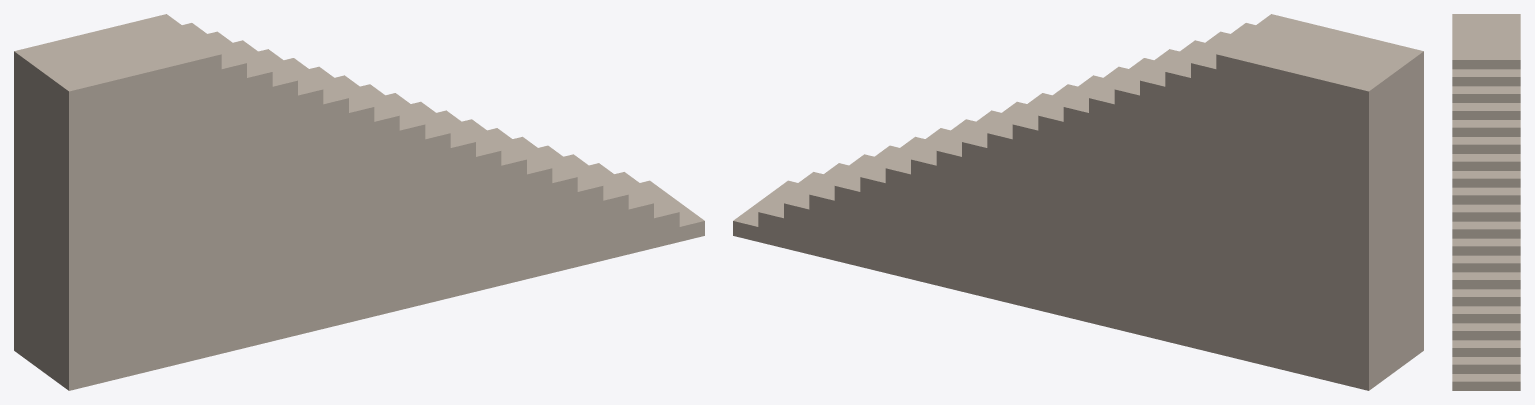
The model's file is SPW_Medieval_Castle_Steps.glb.
3 renders of one model, left to right at view 1: azimuth 30°, elevation 25°; view 2: azimuth 150°, elevation 25°; view 3: azimuth 270°, elevation 25°, orthographic. The views are drawn at different scales.
Parts seen in each view (by area): view 1: SPW_Medieval_Castle_Steps; view 2: SPW_Medieval_Castle_Steps; view 3: SPW_Medieval_Castle_Steps.
Boxes of the visible parts, x1=… form: SPW_Medieval_Castle_Steps: x1=14, y1=14, x2=704, y2=390; SPW_Medieval_Castle_Steps: x1=733, y1=14, x2=1423, y2=390; SPW_Medieval_Castle_Steps: x1=1452, y1=14, x2=1520, y2=390.
Size of the model in its own units: 10 by 4.5 by 1.5.
Materials: 1 (1 with a texture image).
